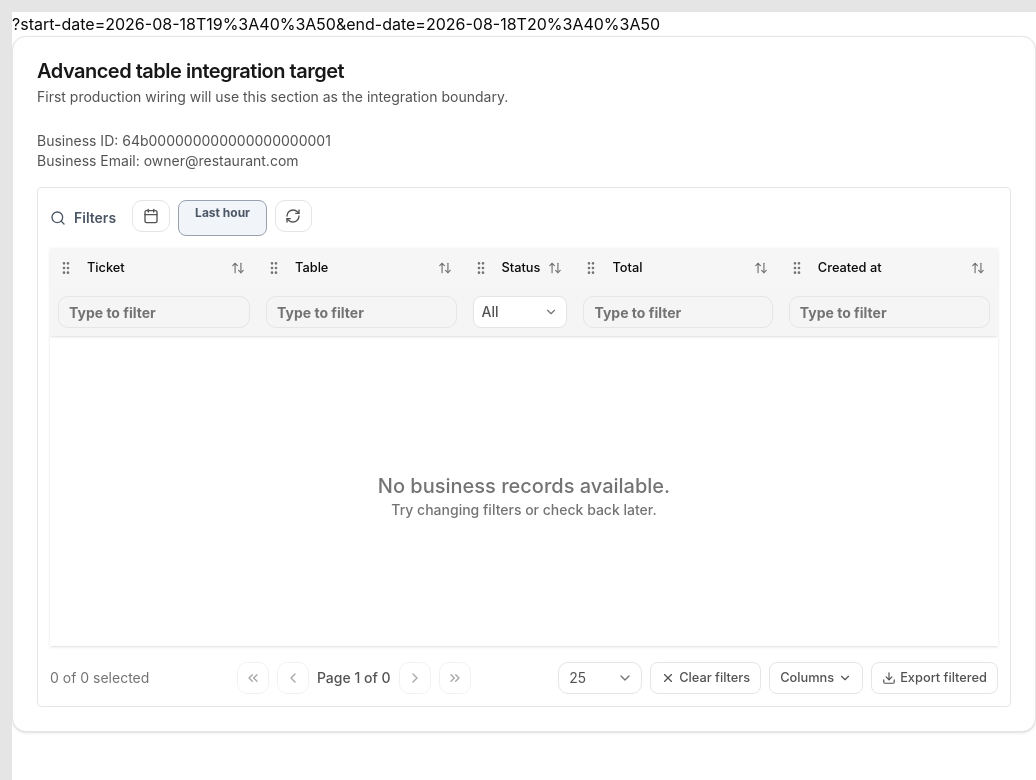
advanced table date range integration › clear filters restores baseline state and keeps URL range params
The width and height of the screenshot is (1036, 780).
Type "T-0001" into the field named "Filter ticketNumber" at x=154, y=312, box [58, 296, 250, 328]
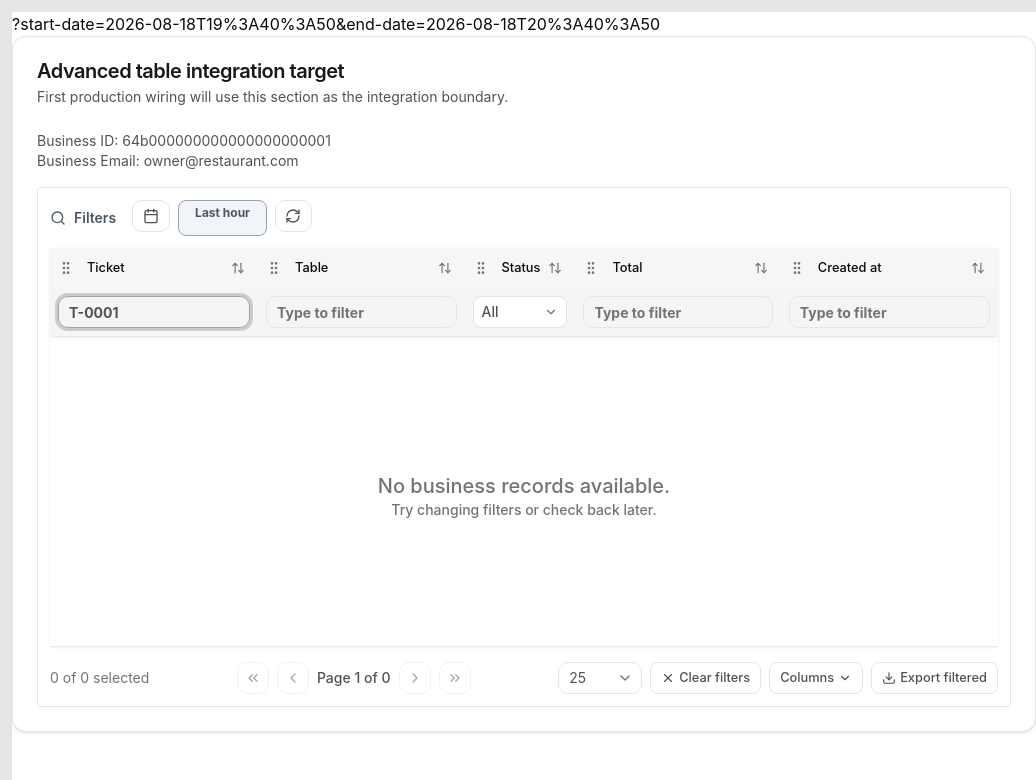
Click the button "Clear filters" at x=706, y=678, box [650, 662, 761, 694]
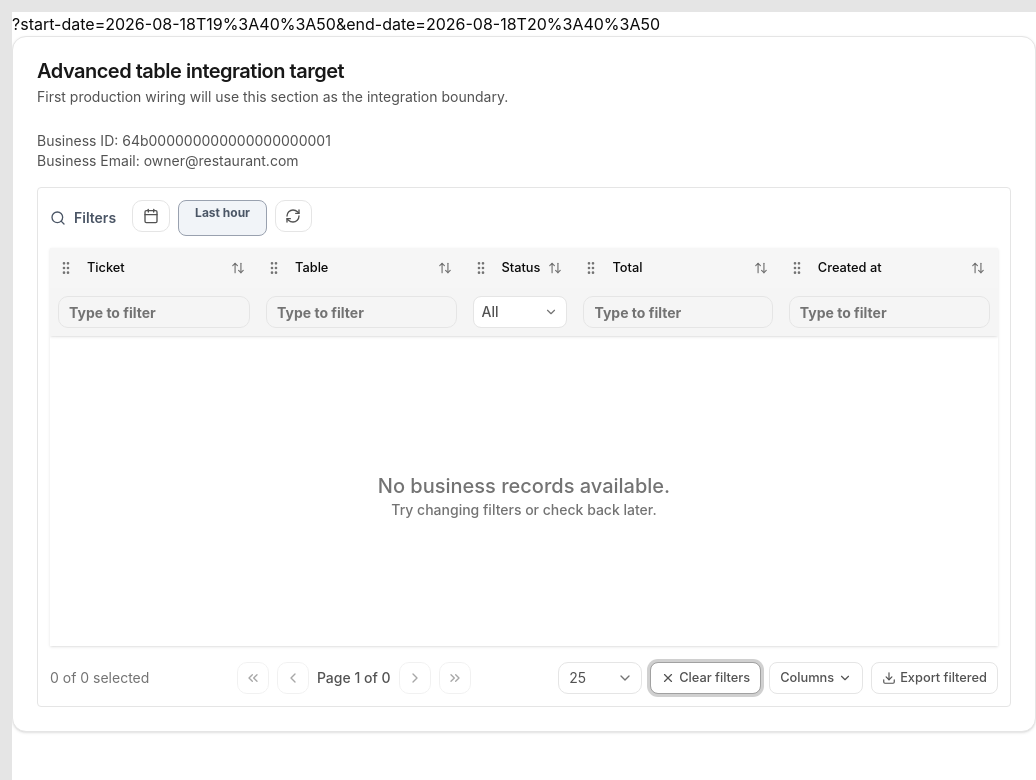
Expected: the text with test id "location-search" shows "start-date=", [12, 14, 660, 34]
Now the field named "Filter ticketNumber" is empty, box [58, 296, 250, 328]
